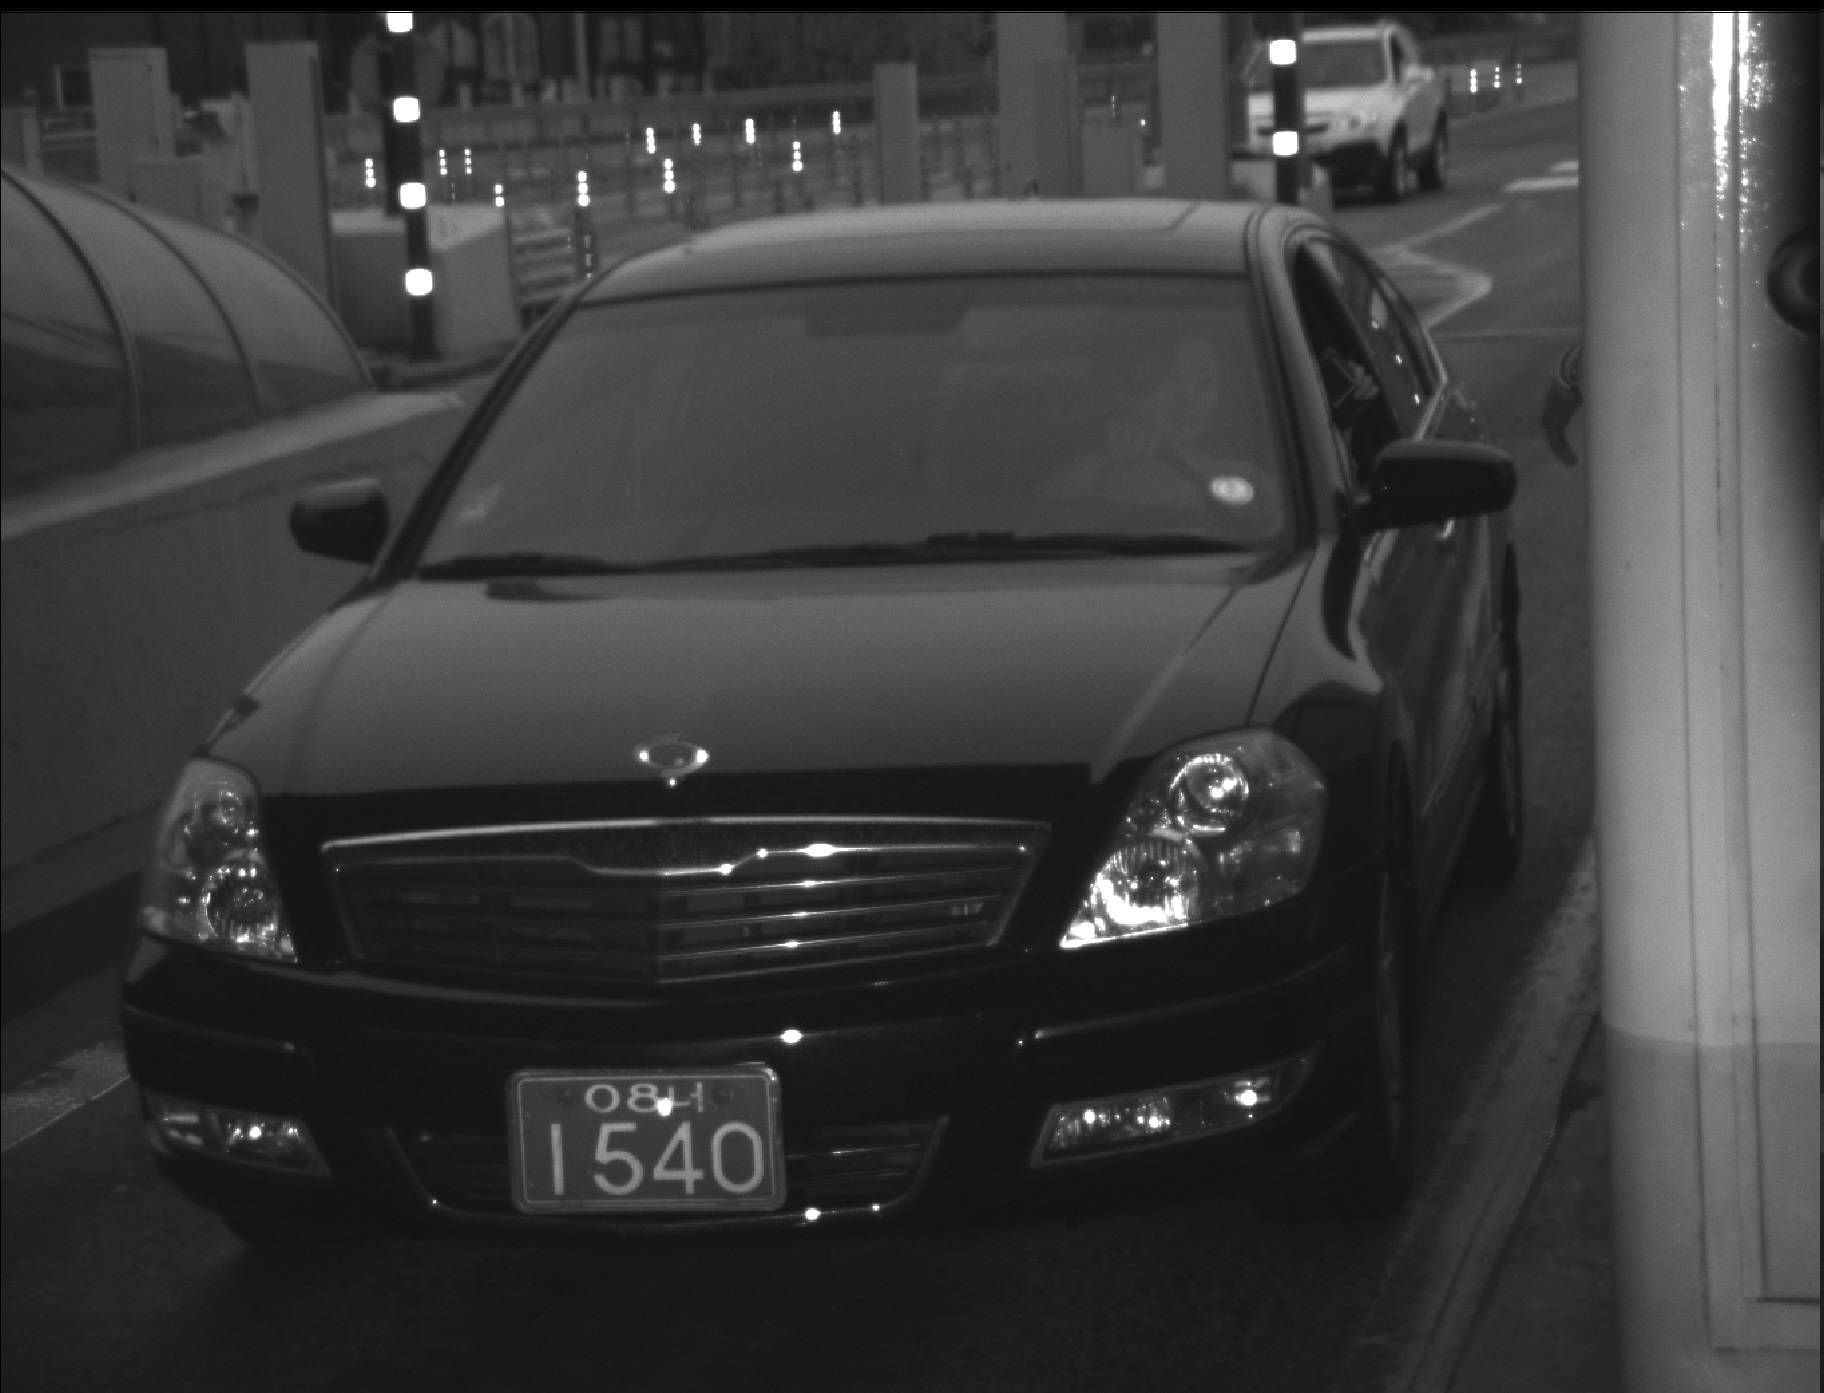car: (122, 204, 1532, 1256), (1222, 18, 1449, 200)
plate: (505, 1070, 786, 1212)
